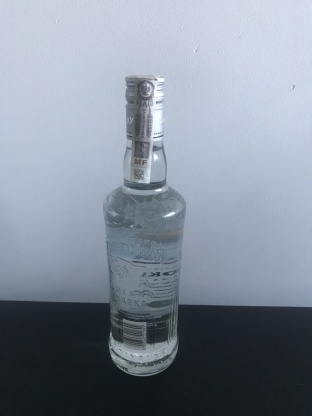nakretka: (122, 69, 168, 142)
